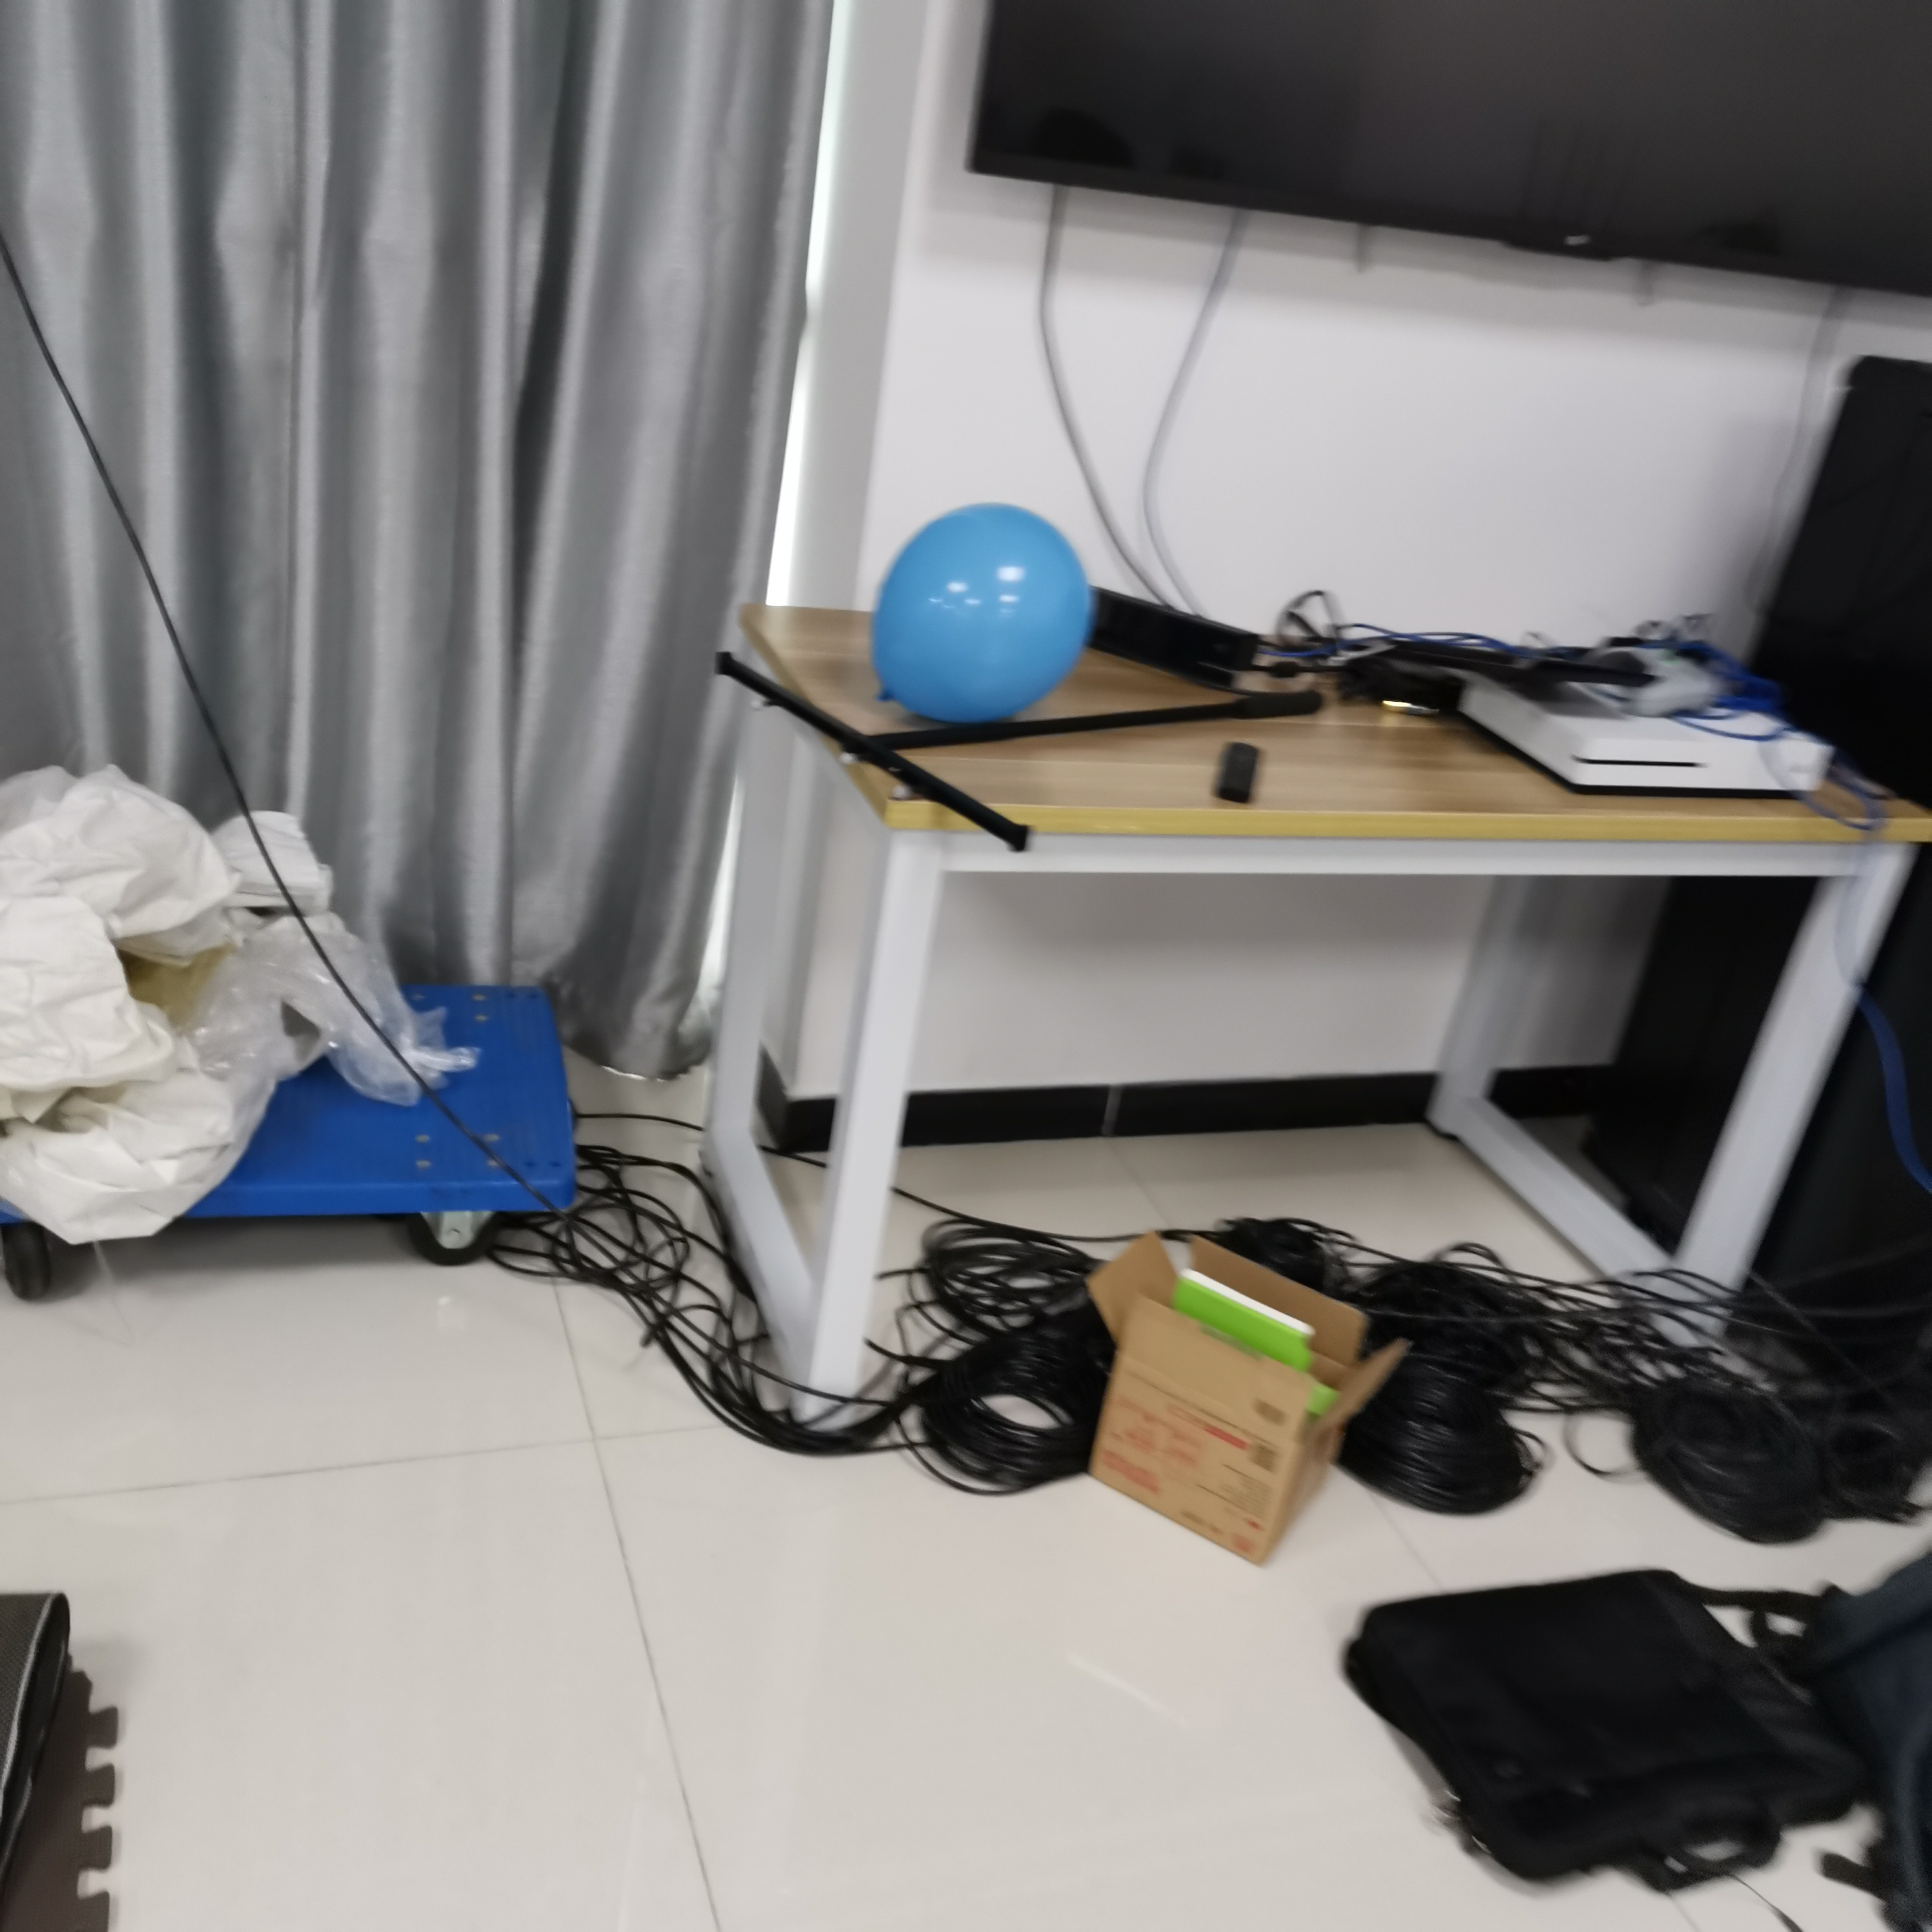balloon: (869, 502, 1095, 725)
